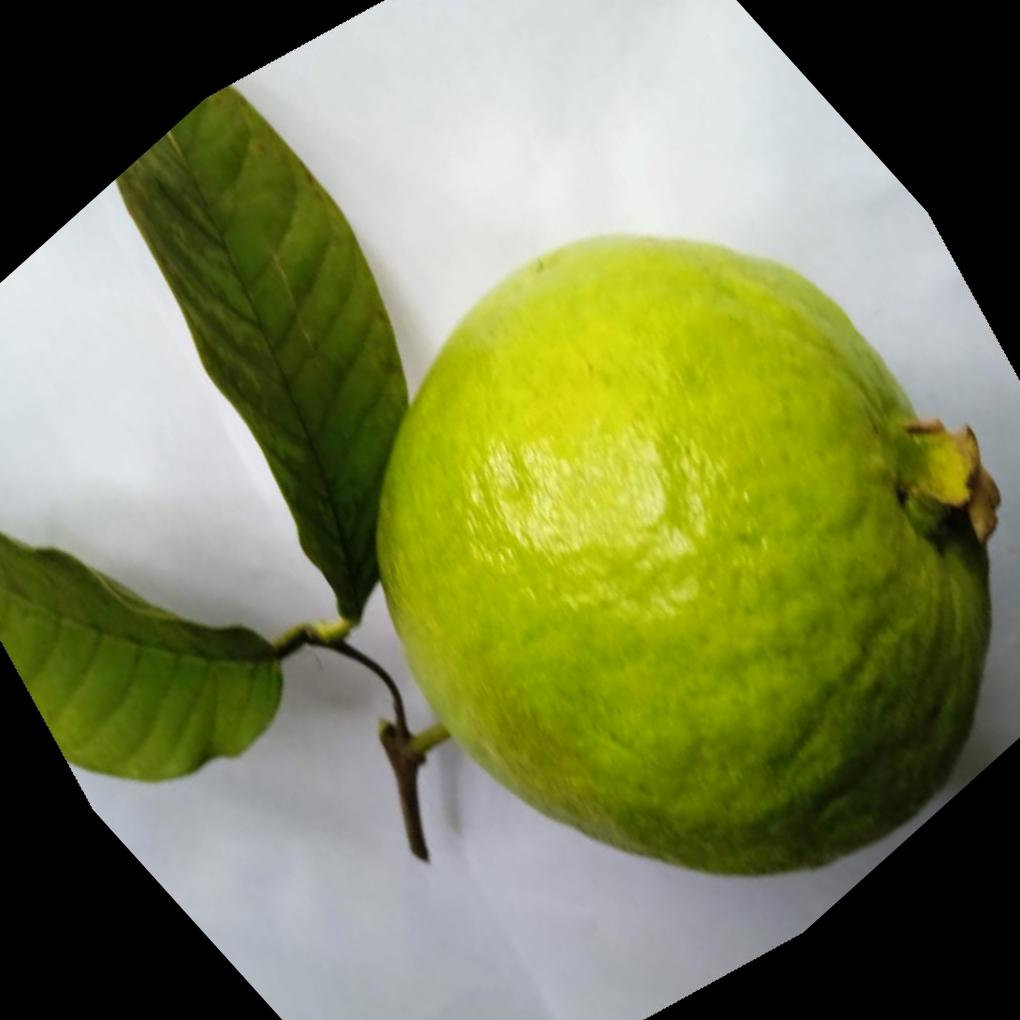FreshGuava: (377, 233, 1004, 881)
